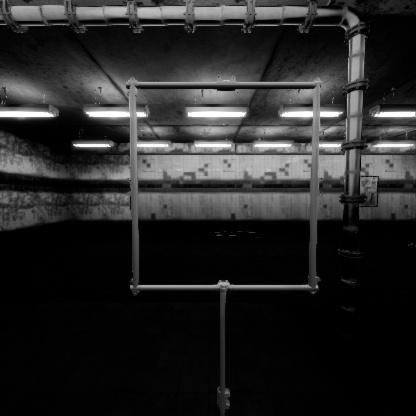gate: (129, 123, 338, 334)
